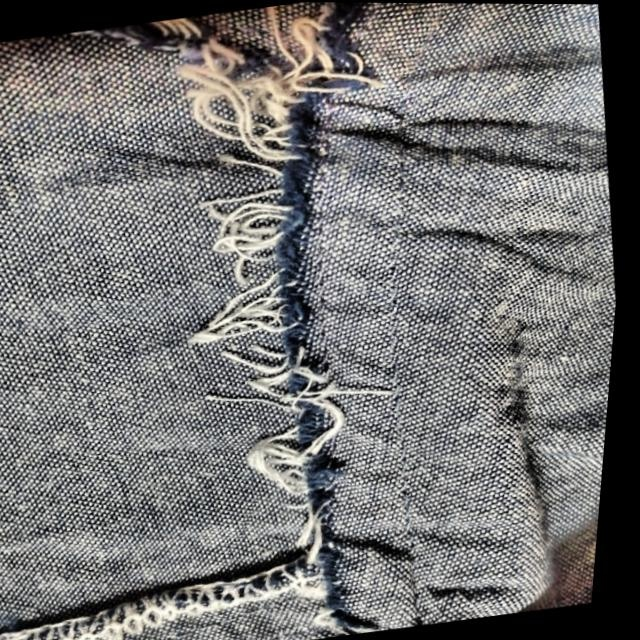Stitch: (102, 4, 454, 588)
